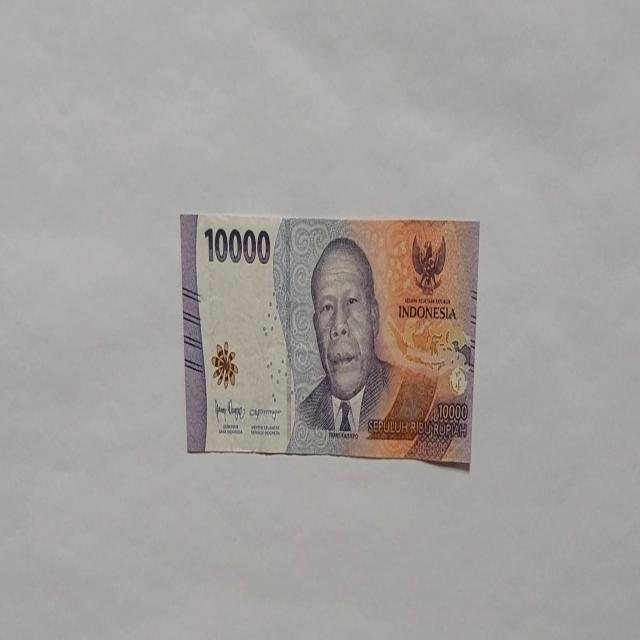sepuluh ribu rupiah: (180, 210, 480, 467), (284, 233, 438, 454)
